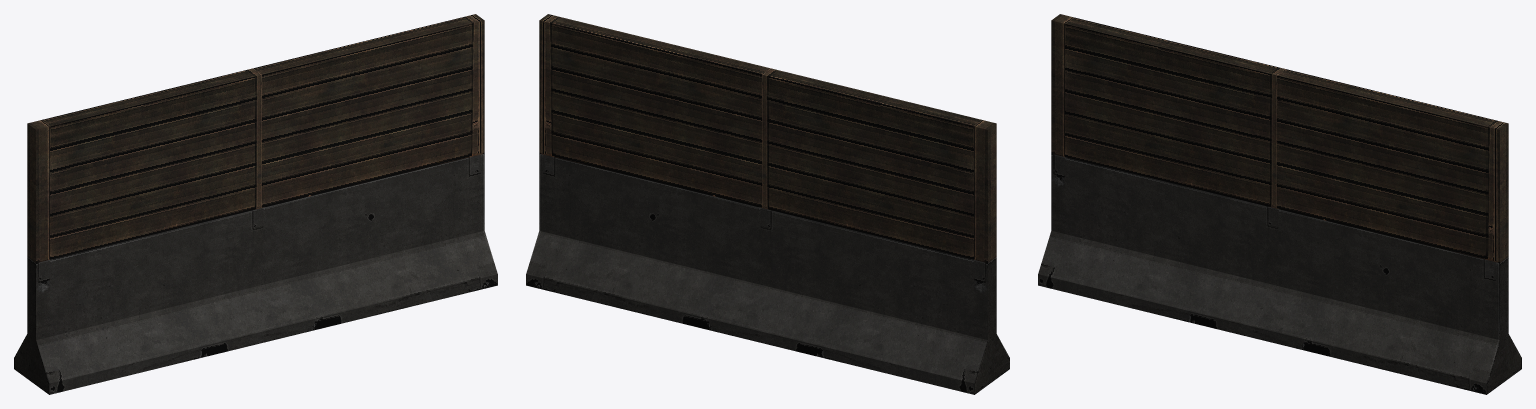
File: barricade_b_2.glb
3 renders of one model, left to right at view 1: azimuth 30°, elevation 25°; view 2: azimuth 150°, elevation 25°; view 3: azimuth 330°, elevation 25°, orthographic.
Parts seen in each view (by area): view 1: barricade_b_2; view 2: barricade_b_2; view 3: barricade_b_2.
Part boxes in pixels (x1,y1,x2,y2): barricade_b_2: [14, 14, 497, 394]; barricade_b_2: [526, 14, 1009, 394]; barricade_b_2: [1038, 14, 1521, 394].
Size of the model in its own units: 2.94 by 1.6 by 0.4.
1 material, 1 textured.
